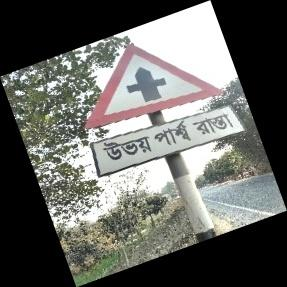Crossroad: (85, 40, 235, 186)
